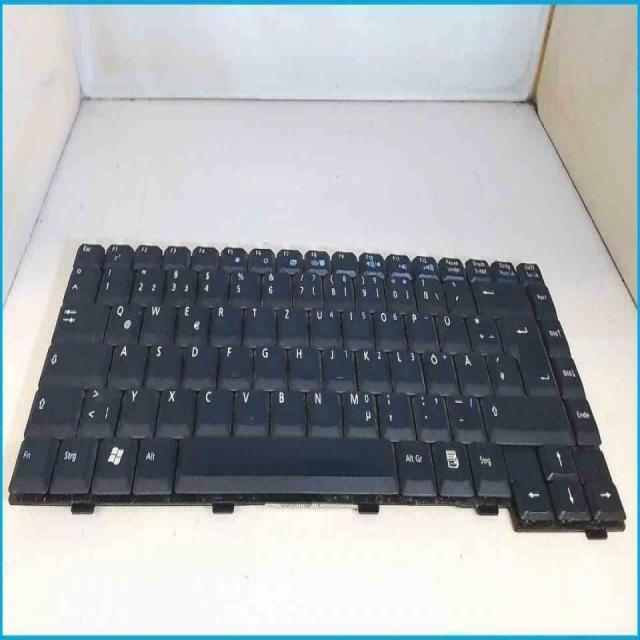0: (384, 269, 414, 308)
1: (95, 261, 130, 302)
2: (133, 262, 163, 301)
3: (163, 263, 195, 300)
4: (195, 266, 226, 302)
5: (227, 266, 256, 302)
6: (260, 267, 288, 303)
7: (291, 267, 321, 306)
8: (323, 268, 353, 308)
9: (355, 269, 383, 308)
a: (107, 339, 144, 380)
accent: (444, 274, 474, 313)
ae: (454, 348, 489, 390)
alt-left: (131, 430, 172, 492)
altgr-right: (395, 434, 433, 492)
b: (268, 385, 303, 429)
c: (193, 384, 230, 429)
caret: (60, 259, 98, 300)
comma: (377, 389, 411, 431)
d: (181, 339, 214, 378)
del: (471, 277, 524, 312)
e: (175, 300, 207, 336)
enter: (496, 311, 552, 389)
f: (217, 340, 251, 384)
g: (252, 342, 284, 381)
h: (287, 342, 319, 383)
hash: (486, 350, 521, 389)
i: (341, 305, 371, 338)
j: (321, 344, 352, 383)
k: (356, 344, 388, 384)
keyboard: (8, 238, 627, 542)
l: (389, 346, 421, 385)
less: (76, 383, 117, 434)
m: (341, 386, 375, 428)
minus: (446, 391, 482, 437)
n: (305, 386, 339, 427)
o: (373, 306, 403, 345)
oe: (422, 348, 456, 389)
p: (404, 308, 435, 347)
plus: (466, 311, 500, 350)
point: (412, 390, 448, 435)
q: (103, 300, 139, 340)
r: (208, 302, 240, 338)
s: (144, 340, 178, 378)
shift-left: (22, 382, 79, 429)
shift-lock: (37, 336, 110, 382)
shift-right: (478, 390, 570, 438)
space: (172, 433, 396, 480)
ss: (414, 272, 443, 311)
strg-left: (7, 433, 53, 491)
strg-right: (466, 436, 507, 492)
t: (242, 302, 273, 338)
tab: (50, 297, 104, 336)
u: (307, 305, 339, 340)
ue: (435, 309, 467, 350)
v: (231, 386, 267, 432)
w: (138, 299, 173, 338)
x: (154, 383, 192, 433)
y: (116, 384, 154, 433)
z: (275, 304, 305, 337)
